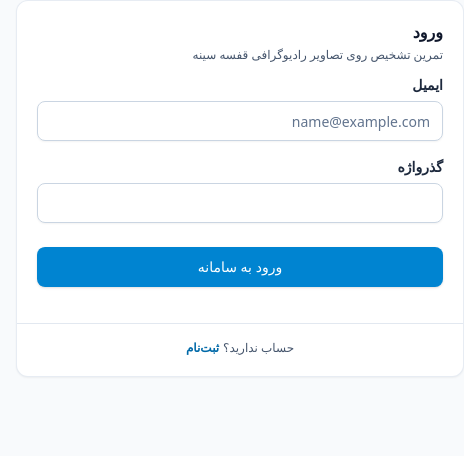
Auth Pages › LoginPage › shows localized error alert on INVALID_CREDENTIALS response from API
Type "resident@example.com" into the field labelled "ایمیل".
click(240, 121); type("resident@example.com")  # box [37, 101, 443, 141]
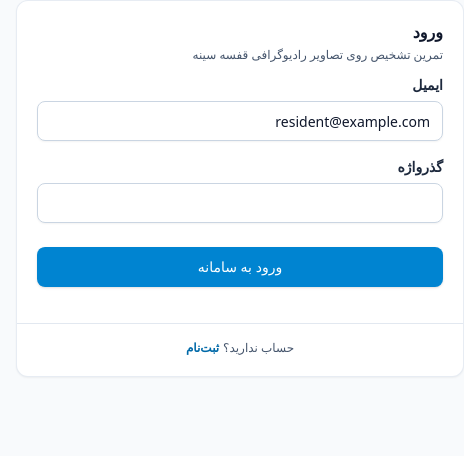
Type "wrongpass123" into the password field labelled "گذرواژه".
click(240, 203); type("wrongpass123")  # box [37, 183, 443, 223]
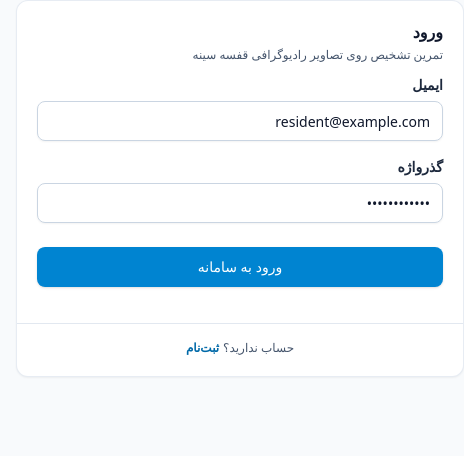
Click the button "ورود به سامانه".
click(240, 267)  # box [37, 247, 443, 287]
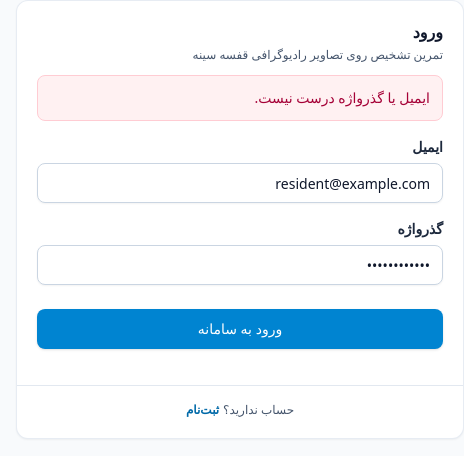
Now the message reads "ایمیل یا گذرواژه درست نیست.", box [254, 88, 430, 107]
